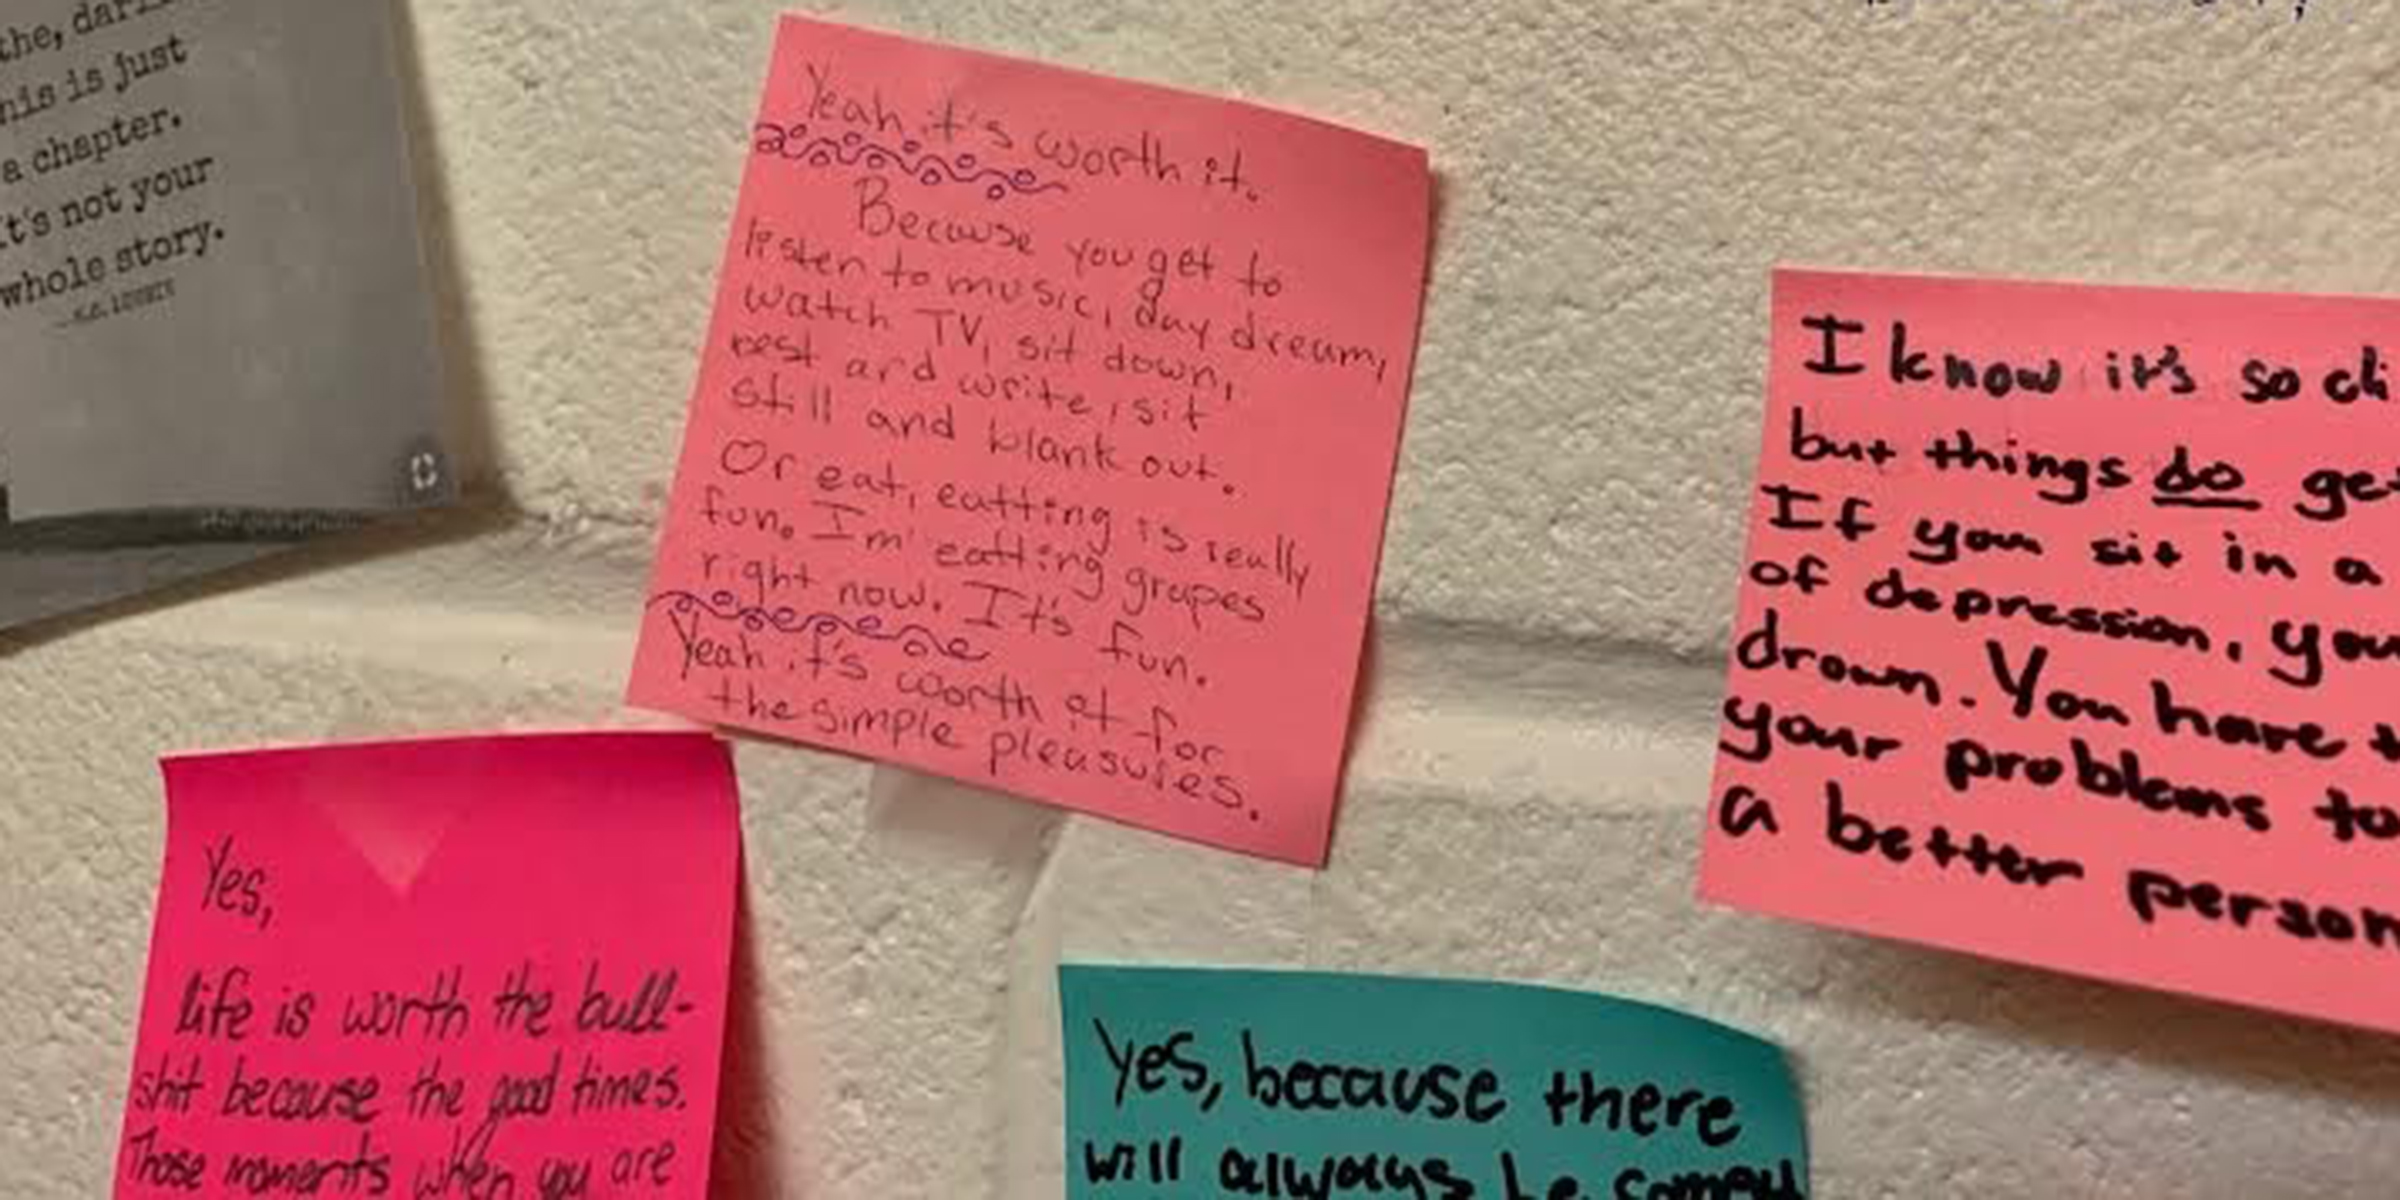Note: (629, 18, 1433, 877), (1697, 268, 2400, 1045), (110, 742, 756, 1200), (1041, 958, 1812, 1200)
